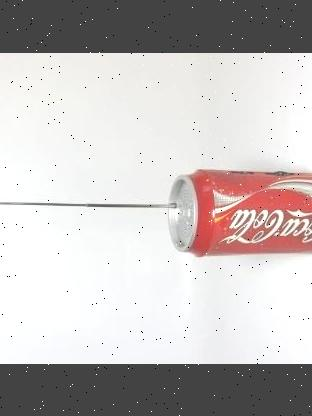Can: (167, 167, 312, 257)
